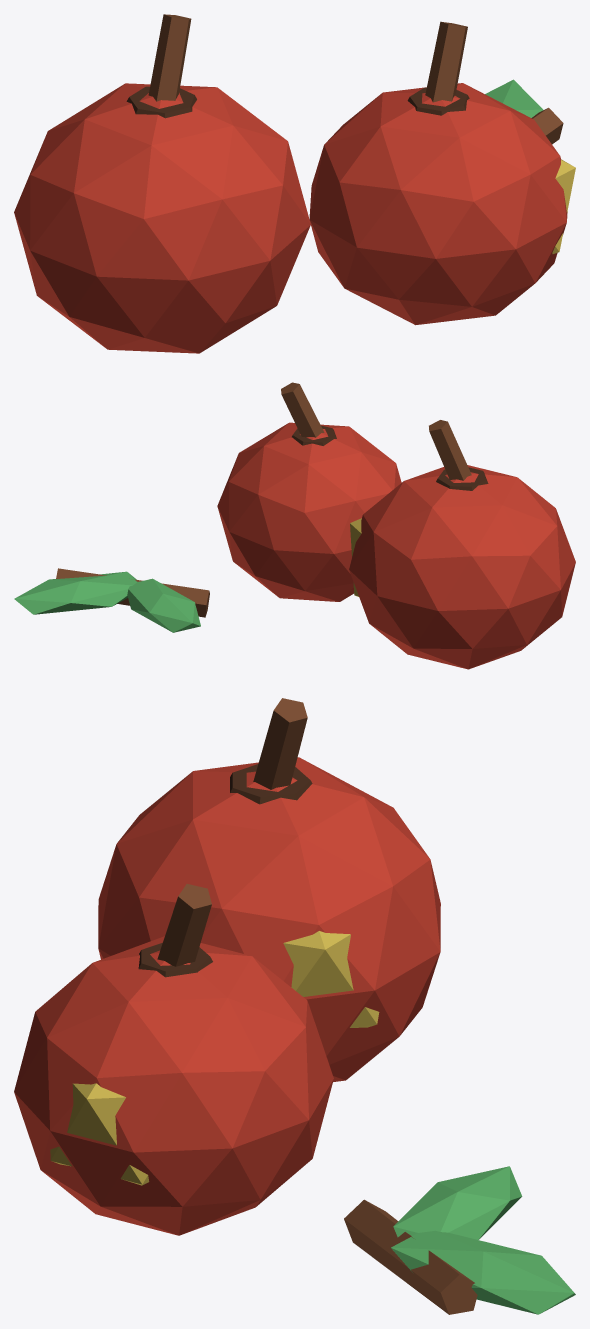
Rendered from pickup_apple.glb.
3 views of the same model, one above another, from view 1: azimuth 30°, elevation 25°; view 2: azimuth 150°, elevation 25°; view 3: azimuth 270°, elevation 25° (orthographic). The views are drawn at different scales.
Parts seen in each view (by area): view 1: Apple_1, Apple_2, Apple_Stalk_1, Apple_Stalk_2, Leaf_1.001, Apple_Well_1, Apple_Well_2, Twig, Apple_Cheek_2; view 2: Apple_1, Apple_2, Leaf_1.001, Leaf_2.001, Apple_Stalk_1, Apple_Stalk_2, Twig, Apple_Well_1, Apple_Well_2; view 3: Apple_2, Apple_1, Leaf_1.001, Leaf_2.001, Twig, Apple_Cheek_1, Apple_Cheek_2, Apple_Stalk_1, Apple_Stalk_2, Apple_Well_1, Apple_Well_2.
Boxes of the visible parts, <box> form: Apple_1: <box>14,83,310,353</box>; Apple_2: <box>309,83,567,325</box>; Apple_Stalk_1: <box>148,14,191,101</box>; Apple_Stalk_2: <box>425,21,467,102</box>; Leaf_1.001: <box>485,79,543,117</box>; Apple_Well_1: <box>126,86,196,118</box>; Apple_Well_2: <box>407,87,469,115</box>; Twig: <box>531,107,563,144</box>; Apple_Cheek_2: <box>552,159,575,253</box>; Apple_1: <box>349,465,575,669</box>; Apple_2: <box>217,422,401,601</box>; Leaf_1.001: <box>14,571,137,614</box>; Leaf_2.001: <box>127,578,200,632</box>; Apple_Stalk_1: <box>429,420,471,480</box>; Apple_Stalk_2: <box>281,382,324,437</box>; Twig: <box>56,568,209,617</box>; Apple_Well_1: <box>436,467,488,490</box>; Apple_Well_2: <box>291,425,336,445</box>; Apple_2: <box>14,936,333,1235</box>; Apple_1: <box>98,757,440,1081</box>; Leaf_1.001: <box>391,1230,575,1314</box>; Leaf_2.001: <box>393,1166,522,1239</box>; Twig: <box>344,1199,477,1314</box>; Apple_Cheek_1: <box>283,931,379,1027</box>; Apple_Cheek_2: <box>50,1083,149,1185</box>; Apple_Stalk_1: <box>253,698,307,789</box>; Apple_Stalk_2: <box>157,884,211,966</box>; Apple_Well_1: <box>230,764,312,804</box>; Apple_Well_2: <box>138,943,212,977</box>.
Bounding box in the file's own units: 0.17 × 0.0842 × 0.1103.
